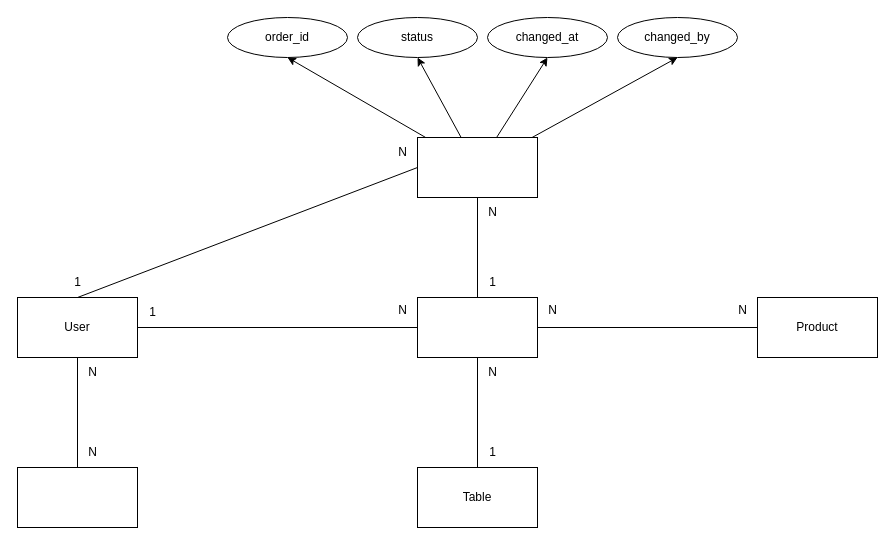
The diagram is 895 pixels wide and 545 high, and some of its shapes have lost their labels. Here are the shapes that lost their labels. From the top down, the centre of each, then its label:
At point (477, 167): "Order Status".
At point (477, 327): "Order".
At point (77, 497): "Role".
